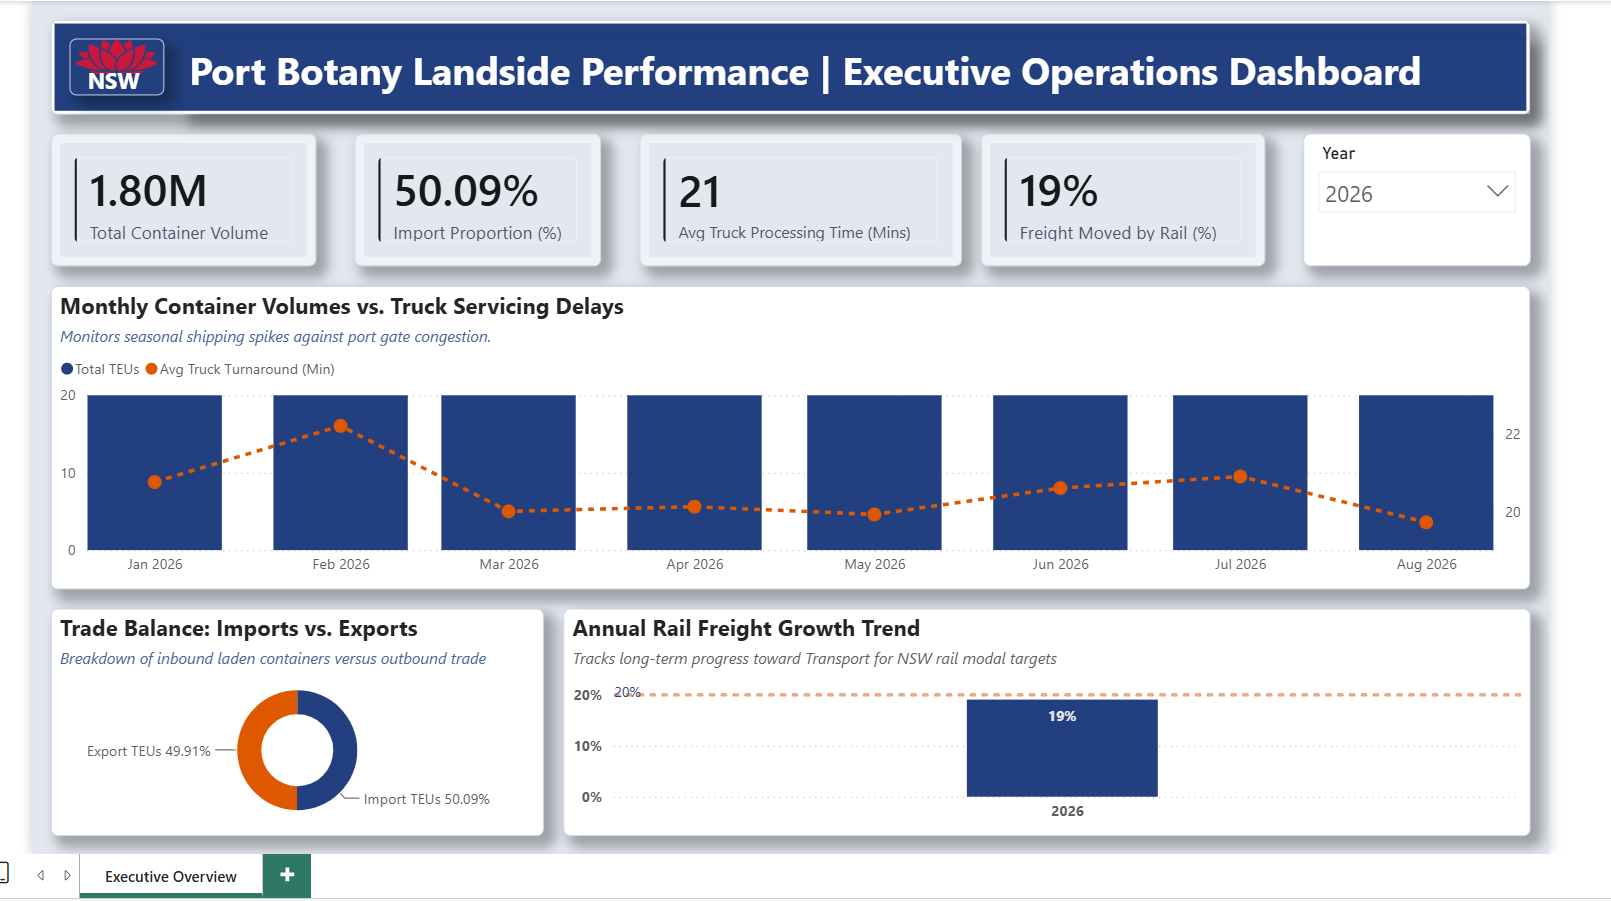

What the dashboard file says about the page in this screenshot:
{"tool":"powerbi","page":{"name":"Executive Overview","canvas":[1280,720],"ordinal":0},"visuals":[{"type":"shape","box":[16,16,1248,80],"z":0},{"type":"textbox","box":[128,32,1136,64],"z":1000},{"type":"slicer","fields":{"Values":["Dim_Date.Year"]},"box":[1072,112,192,112],"z":2000},{"type":"cardVisual","fields":{"Data":["_Measures.Total TEUs"]},"box":[16,112,224,112],"z":3000},{"type":"cardVisual","fields":{"Data":["_Measures.Import Share %"]},"box":[272,112,208,112],"z":4000},{"type":"cardVisual","fields":{"Data":["_Measures.Avg Truck Turnaround (Min)"]},"box":[512,112,272,112],"z":5000},{"type":"cardVisual","fields":{"Data":["_Measures.Rail Share %"]},"box":[800,112,240,112],"z":6000},{"type":"lineClusteredColumnComboChart","title":"Monthly Container Volumes vs. Truck Servicing Delays","fields":{"Category":["Dim_Date.Date.Variation.Date Hierarchy.Year"],"Y":["_Measures.Total TEUs"],"Y2":["_Measures.Avg Truck Turnaround (Min)"]},"box":[16,240,1248,256],"z":7000},{"type":"donutChart","title":"Trade Balance: Imports vs. Exports","fields":{"Y":["_Measures.Import TEUs","_Measures.Export TEUs"]},"box":[16,512,416,192],"z":8000},{"type":"clusteredColumnChart","title":"Annual Rail Freight Growth Trend","fields":{"Category":["Dim_Date.Year"],"Y":["_Measures.Rail Share %"]},"box":[448,512,816,192],"z":9000},{"type":"image","box":[32,32,80,48],"z":10000},{"type":"textbox","box":[32,32,80,64],"z":11000}]}

Visuals, with their boxes in screenshot pixels (x1, y1, x2, y2):
shape: <bbox>44, 15, 1531, 110</bbox>
textbox: <bbox>178, 34, 1531, 110</bbox>
slicer - Dim_Date.Year: <bbox>1303, 129, 1531, 263</bbox>
cardVisual - _Measures.Total TEUs: <bbox>44, 129, 311, 263</bbox>
cardVisual - _Measures.Import Share %: <bbox>349, 129, 597, 263</bbox>
cardVisual - _Measures.Avg Truck Turnaround (Min): <bbox>635, 129, 959, 263</bbox>
cardVisual - _Measures.Rail Share %: <bbox>978, 129, 1264, 263</bbox>
"Monthly Container Volumes vs. Truck Servicing Delays" lineClusteredColumnComboChart: <bbox>44, 282, 1531, 587</bbox>
"Trade Balance: Imports vs. Exports" donutChart: <bbox>44, 606, 540, 835</bbox>
"Annual Rail Freight Growth Trend" clusteredColumnChart: <bbox>559, 606, 1531, 835</bbox>
image: <bbox>63, 34, 159, 91</bbox>
textbox: <bbox>63, 34, 159, 110</bbox>
